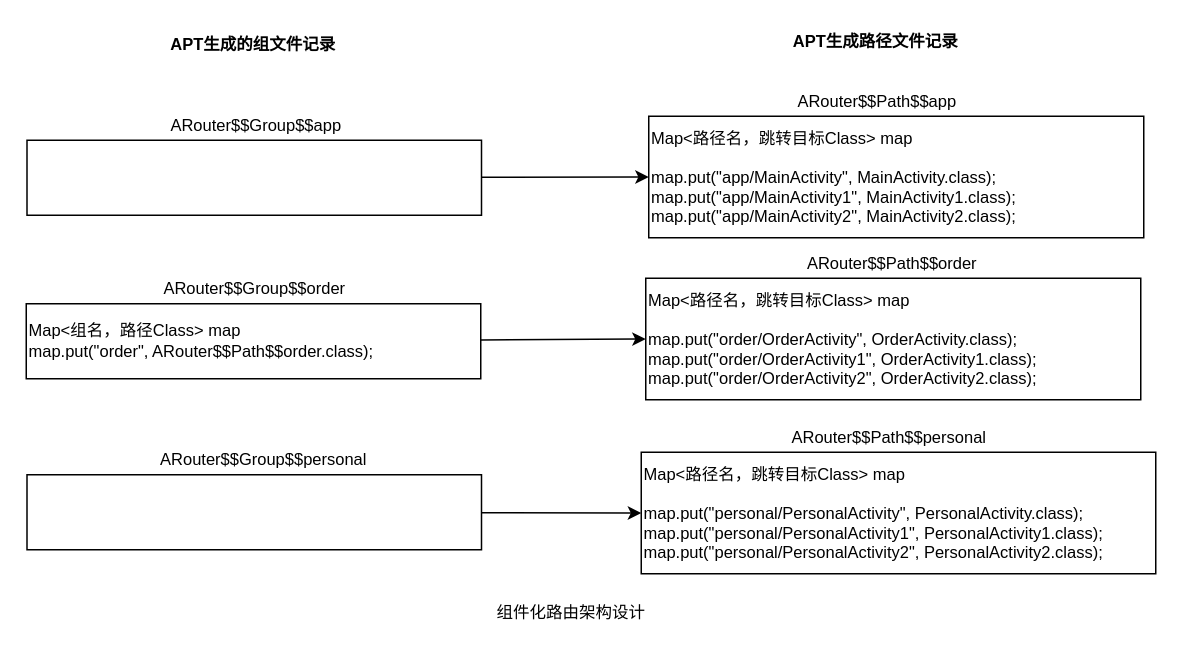
Image size: 1182x653. Some labels were removed from this diagram. The shapes that lost their labels are listed below. From the top down, each one's centre as x and y in pixels, then its label:
pixel 254 177: Map<组名，路径Class> map map.put("app", ARouter$$Path$$app.class);
pixel 254 511: Map<组名，路径Class> map map.put("peraonal", ARouter$$Path$$peraonal.class);
